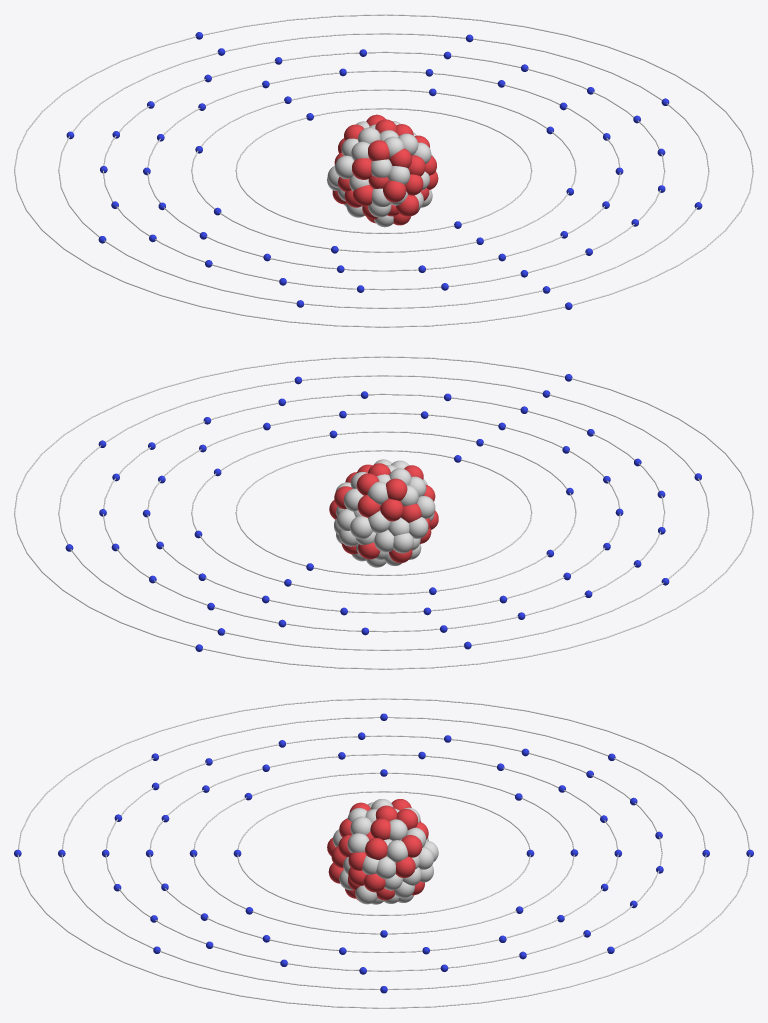
The model's file is Praseodym.glb.
3 renders of one model, top to bottom at view 1: azimuth 30°, elevation 25°; view 2: azimuth 150°, elevation 25°; view 3: azimuth 270°, elevation 25°, orthographic.
Visible parts, largest first — view 1: P-Schale, O-Schale, N-Schale, M-Schale, L-Schale, K-Schale; view 2: P-Schale, O-Schale, N-Schale, M-Schale, L-Schale, K-Schale; view 3: P-Schale, O-Schale, N-Schale, M-Schale, L-Schale, K-Schale.
Boxes of the visible parts, x1,y1,x2,y2 form: P-Schale: [14, 14, 753, 327]; O-Schale: [58, 33, 709, 308]; N-Schale: [102, 51, 665, 290]; M-Schale: [147, 70, 620, 271]; L-Schale: [191, 89, 576, 252]; K-Schale: [235, 108, 532, 233]; P-Schale: [14, 356, 753, 669]; O-Schale: [58, 375, 709, 650]; N-Schale: [103, 393, 665, 632]; M-Schale: [147, 412, 620, 613]; L-Schale: [191, 431, 576, 594]; K-Schale: [235, 450, 532, 575]; P-Schale: [17, 698, 750, 1008]; O-Schale: [61, 717, 706, 989]; N-Schale: [105, 735, 662, 971]; M-Schale: [149, 754, 618, 952]; L-Schale: [193, 772, 574, 934]; K-Schale: [237, 791, 530, 915].
Size of the model in its own units: 25.04 by 3.61 by 25.26.
